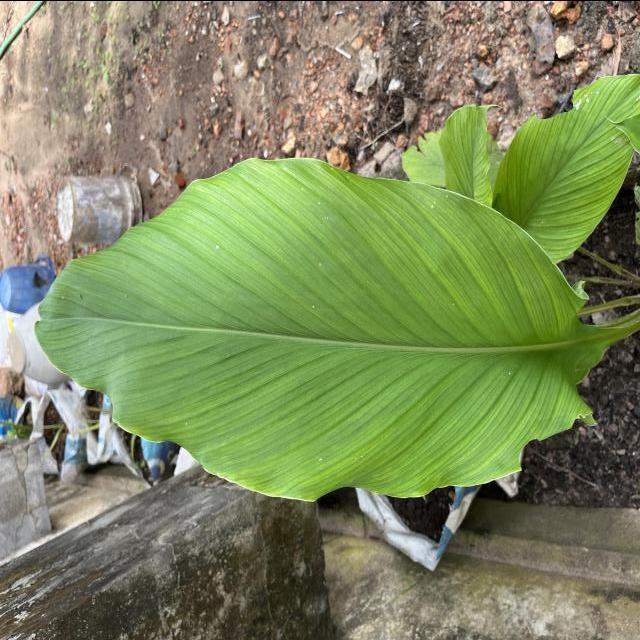Curcuma longa: (30, 152, 612, 506)
